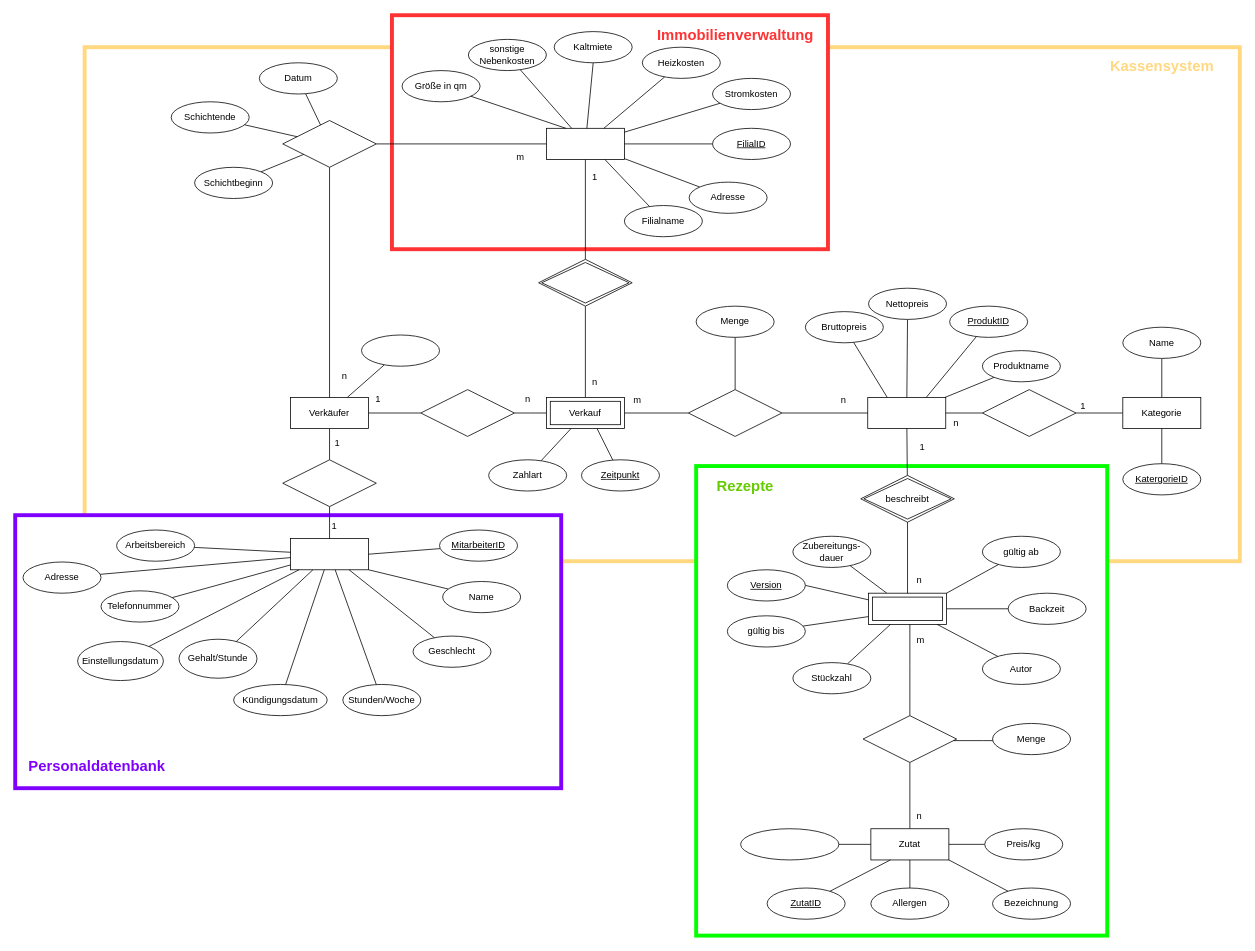
The diagram is 1255 pixels wide and 951 high, and some of its shapes have lost their labels. The shapes that lost their labels are listed below. From the top down, each one's centre as x and y in pixels, then its label:
At [329,143]: "arbeitet in".
At [585,144]: "Filiale".
At [585,282]: "getätigt in".
At [400,350]: "VerkäuferID".
At [467,412]: "realisiert von".
At [735,412]: "umfasst".
At [906,413]: "Produkt".
At [1029,412]: "gehört zu".
At [329,483]: "ist".
At [329,554]: "Mitarbeiter".
At [907,608]: "Rezept".
At [909,738]: "beinhaltet".
At [789,844]: "Lagerkosten/g".
